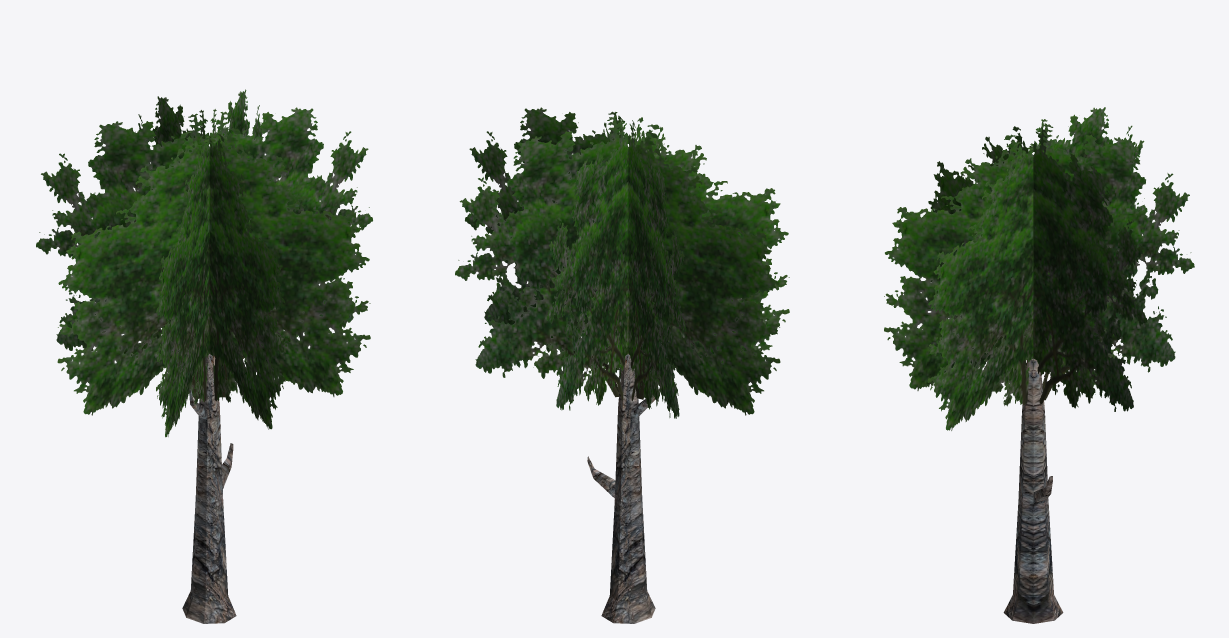
Rendered from Tree2.fbx.
3 renders of one model, left to right at view 1: azimuth 30°, elevation 25°; view 2: azimuth 150°, elevation 25°; view 3: azimuth 270°, elevation 25°, orthographic.
Visible parts, largest first — view 1: Tree; view 2: Tree; view 3: Tree.
Part boxes in pixels (bbox=[...]): Tree: bbox=[36, 89, 372, 623]; Tree: bbox=[455, 107, 789, 623]; Tree: bbox=[884, 107, 1194, 623].
Bounding box in the file's own units: 10.6 × 9.19 × 14.28.
2 materials, 2 textured.
